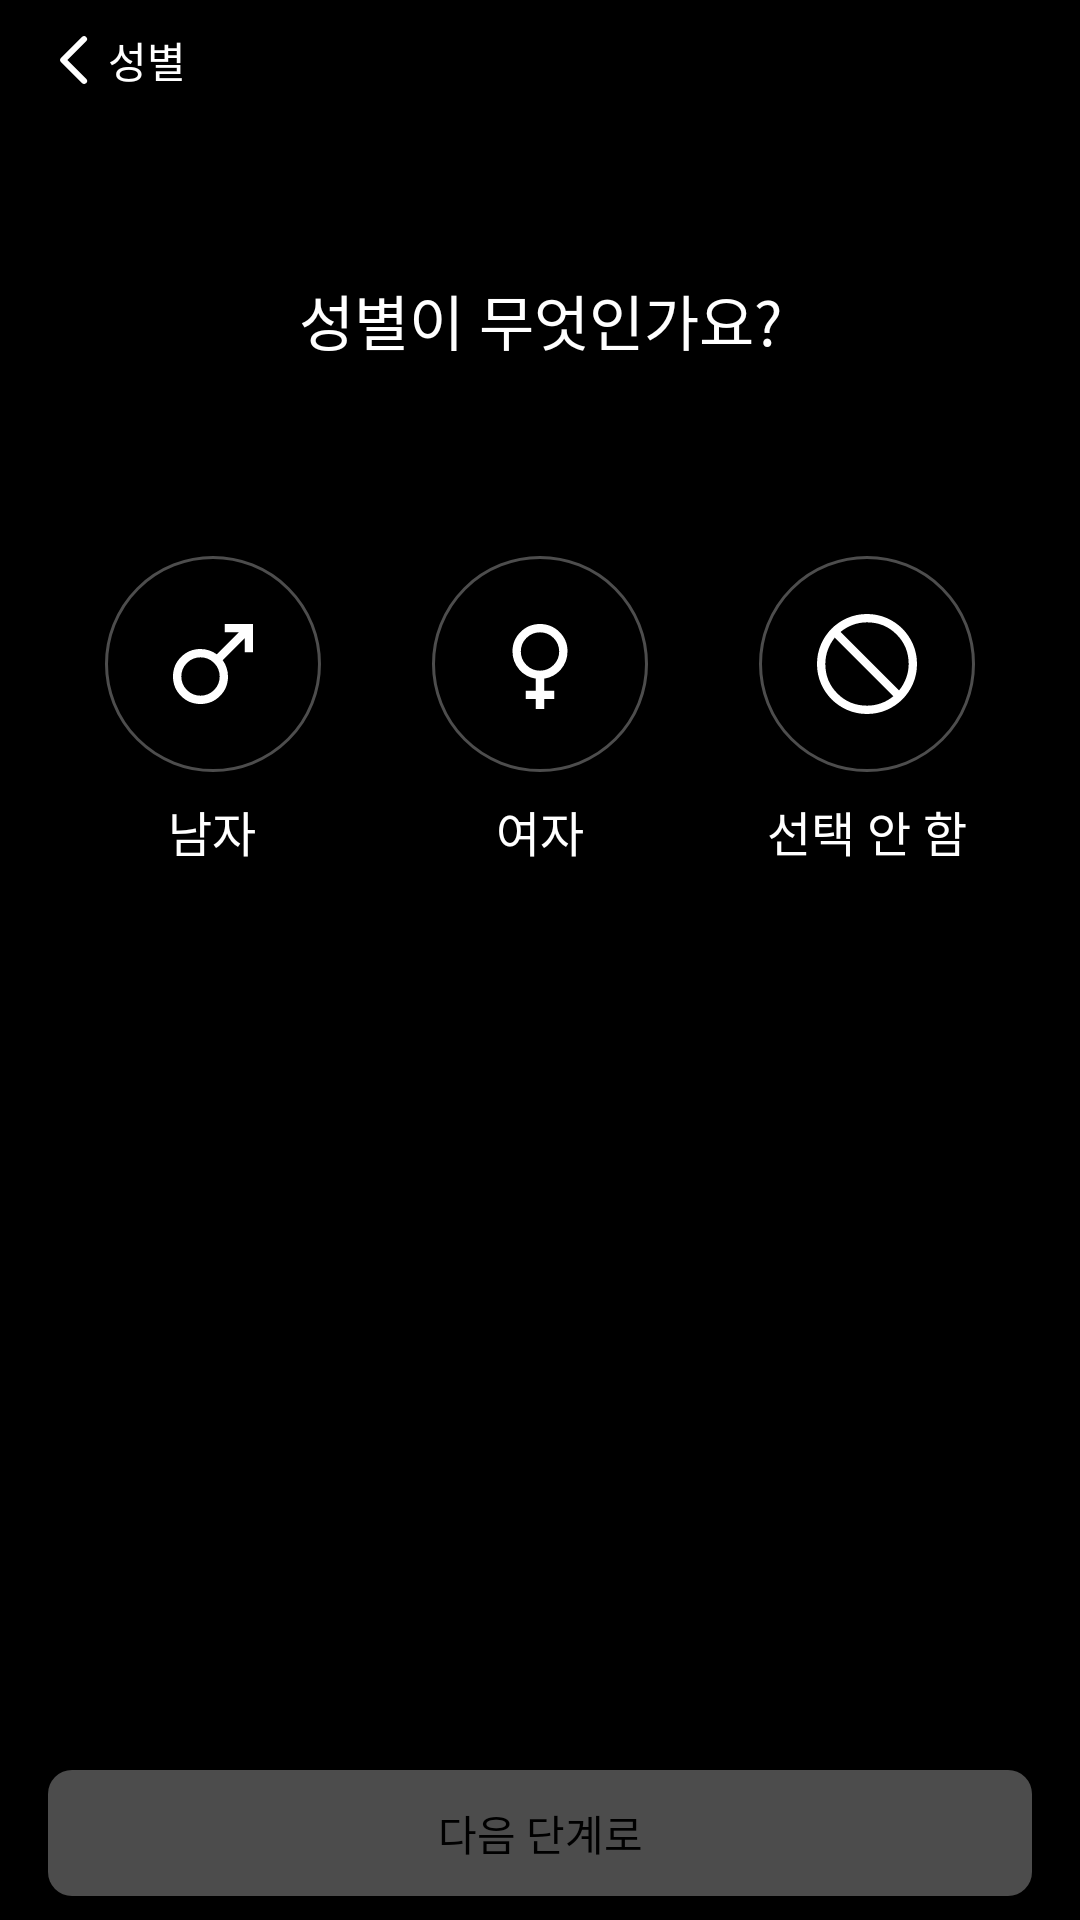

Where to tap for icons on this 1080*1920 app screen, as (x,y):
back: (74,60)
